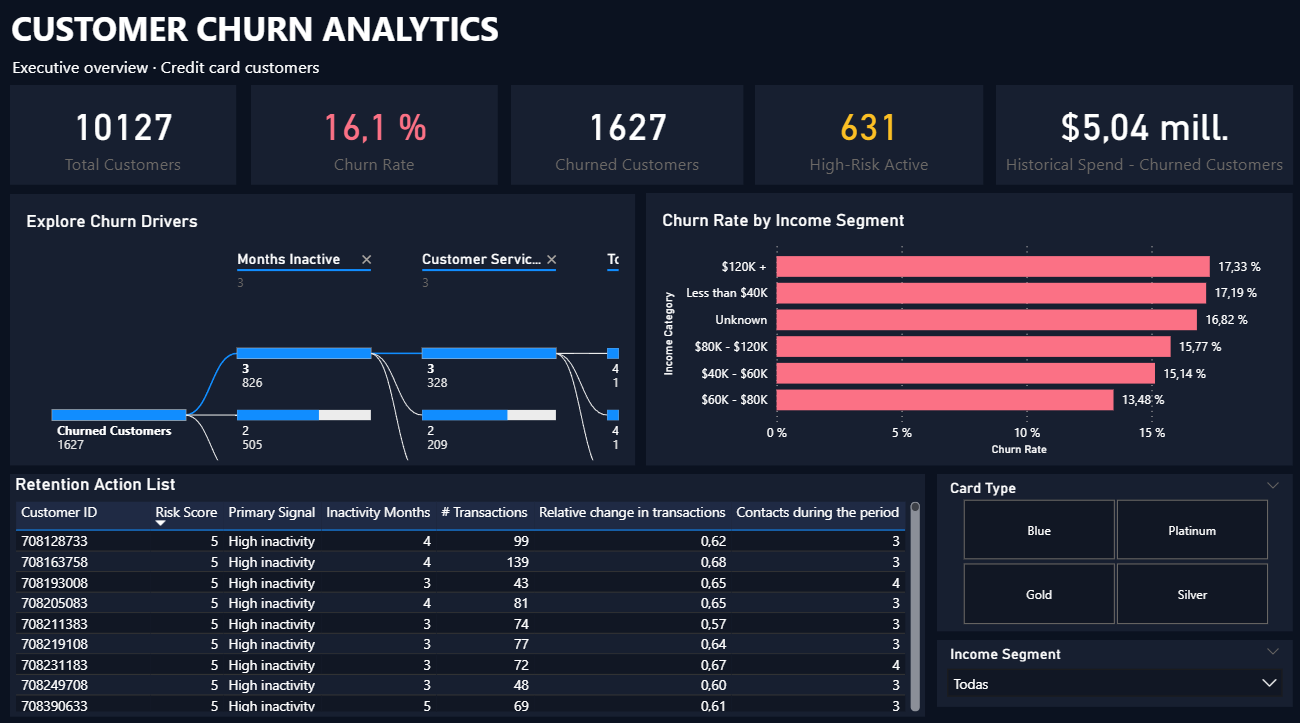

What the dashboard file says about the page in this screenshot:
{"tool":"powerbi","page":{"name":"Executive Overview","canvas":[1280,720],"ordinal":0},"visuals":[{"type":"card","fields":{"Values":["customer_churn.Churn Rate"]},"box":[255.8,91.3,239.9,96.6],"z":0},{"type":"card","fields":{"Values":["customer_churn.High Priority Active Customers"]},"box":[746.1,91.3,221.8,96.6],"z":1000},{"type":"card","fields":{"Values":["customer_churn.Lost Customer Transaction Volume"]},"box":[980.7,91.3,288.7,96.6],"z":2000},{"type":"textbox","box":[17.9,9.1,540.4,64.8],"z":3000},{"type":"textbox","box":[18,57.3,484,34],"z":4000},{"type":"card","fields":{"Values":["customer_churn.Total Customers"]},"box":[21.2,91.3,219.7,96.6],"z":5000},{"type":"card","fields":{"Values":["customer_churn.Churned Customers"]},"box":[508.4,91.3,226.1,96.6],"z":6000},{"type":"tableEx","title":"Retention Action List","fields":{"Values":["customer_churn.clientnum","Sum(customer_churn.Operational Risk Score)","customer_churn.Primary Risk Signal","Sum(customer_churn.months_inactive_12_mon)","Sum(customer_churn.total_trans_ct)","Sum(customer_churn.total_ct_chng_q4_q1)","Sum(customer_churn.contacts_count_12_mon)"]},"box":[21.2,470.2,890.5,235.6],"z":7000},{"type":"clusteredBarChart","title":"Churn Rate by Income Segment","fields":{"Category":["customer_churn.income_category"],"Y":["customer_churn.Churn Rate"]},"box":[640,196.4,629.4,265.3],"z":8000},{"type":"decompositionTreeVisual","title":"Explore Churn Drivers","fields":{"Analyze":["customer_churn.Churned Customers"],"ExplainBy":["customer_churn.months_inactive_12_mon","customer_churn.contacts_count_12_mon","customer_churn.total_trans_ct","customer_churn.total_ct_chng_q4_q1","customer_churn.total_relationship_count","customer_churn.card_category","customer_churn.income_category","customer_churn.Age Band","customer_churn.Credit Limit Band"]},"box":[21.2,197.4,608.2,264.3],"z":9000},{"type":"slicer","fields":{"Values":["customer_churn.card_category"]},"box":[923.4,470.2,346,152.8],"z":10000},{"type":"slicer","fields":{"Values":["customer_churn.income_category"]},"box":[923.4,631.5,346,64.7],"z":11000}]}

Visuals, with their boxes in screenshot pixels (x1, y1, x2, y2), scaled from the page's 1280x720 canvas onto the 1300x723 screenshot:
card - customer_churn.Churn Rate: box=[260, 92, 503, 189]
card - customer_churn.High Priority Active Customers: box=[758, 92, 983, 189]
card - customer_churn.Lost Customer Transaction Volume: box=[996, 92, 1289, 189]
textbox: box=[18, 9, 567, 74]
textbox: box=[18, 58, 510, 92]
card - customer_churn.Total Customers: box=[22, 92, 245, 189]
card - customer_churn.Churned Customers: box=[516, 92, 746, 189]
"Retention Action List" tableEx: box=[22, 472, 926, 709]
"Churn Rate by Income Segment" clusteredBarChart: box=[650, 197, 1289, 464]
"Explore Churn Drivers" decompositionTreeVisual: box=[22, 198, 639, 464]
slicer - customer_churn.card_category: box=[938, 472, 1289, 626]
slicer - customer_churn.income_category: box=[938, 634, 1289, 699]
